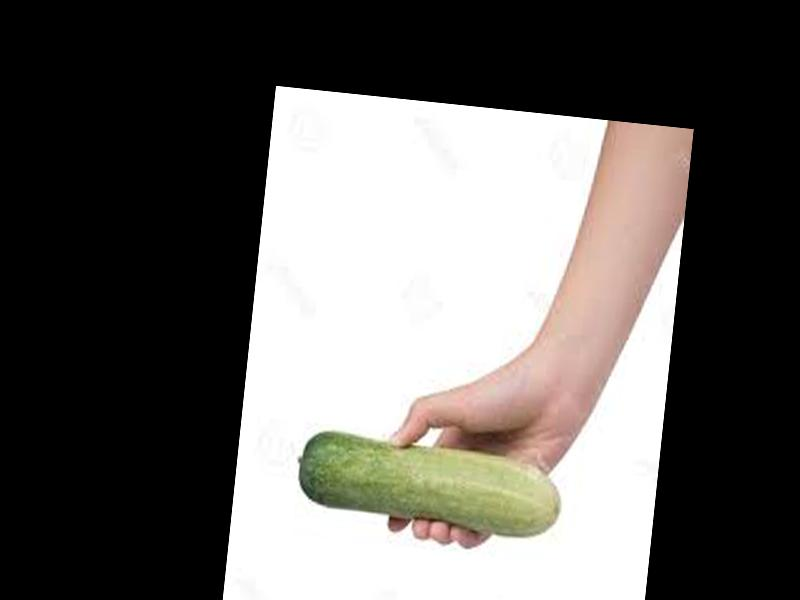Cucumber: (291, 423, 567, 538)
